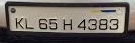numberplate: (5, 3, 127, 36)
